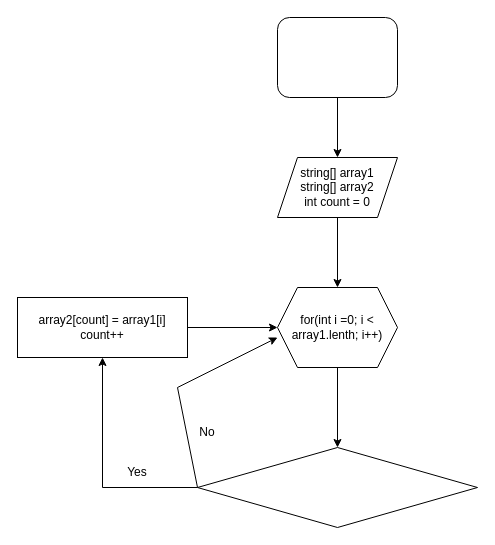
Image size: 495x545. Some labels were removed from this diagram. Here are the shapes that lost their labels. From the top down, the centre of each, then its label:
At (337,57): "SecondArrayWithIf".
At (337,487): "if (array1[i].length <= 3)".
